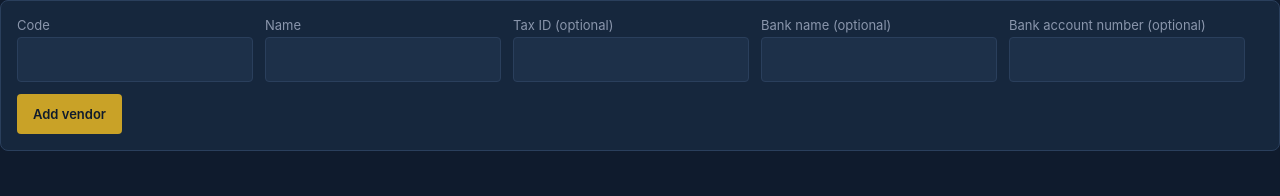
Test case: CreateVendorForm › shows an error message when the action fails
In the field labelled "Code": [135, 60] box left=17, top=37, right=253, bottom=82, type "VEND-001"
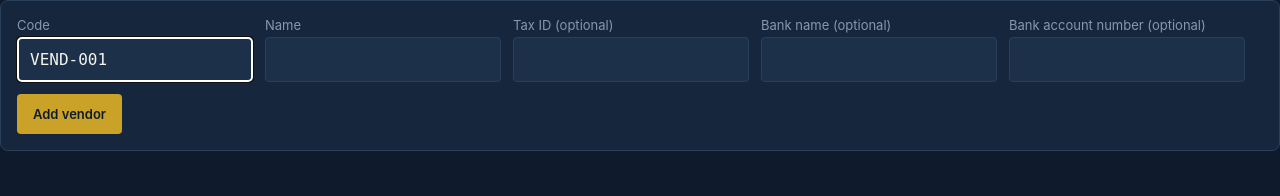
In the field labelled "Name": [383, 60] box left=265, top=37, right=501, bottom=82, type "Acme Building Supplies"
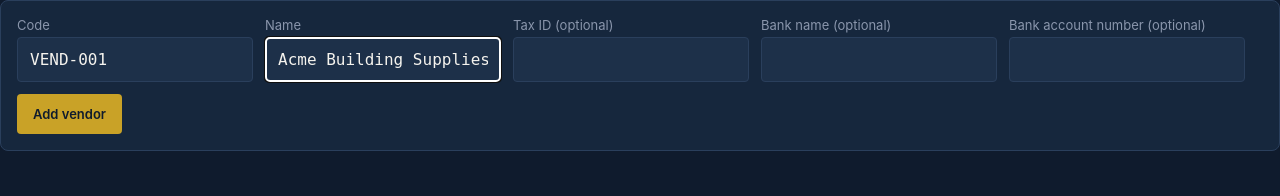
Click the button "Add vendor": [70, 114] box left=17, top=94, right=122, bottom=134
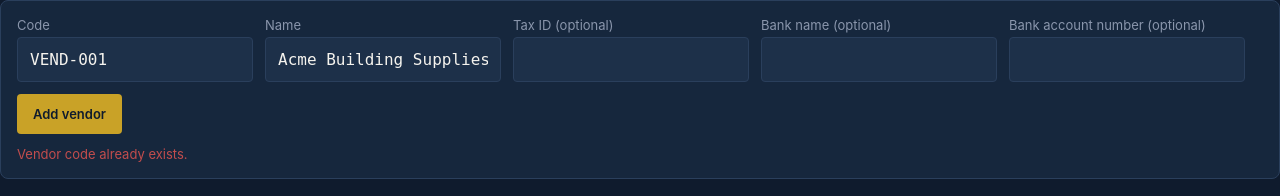
Check: the text "Vendor code already exists." is shown, box left=17, top=146, right=188, bottom=162
